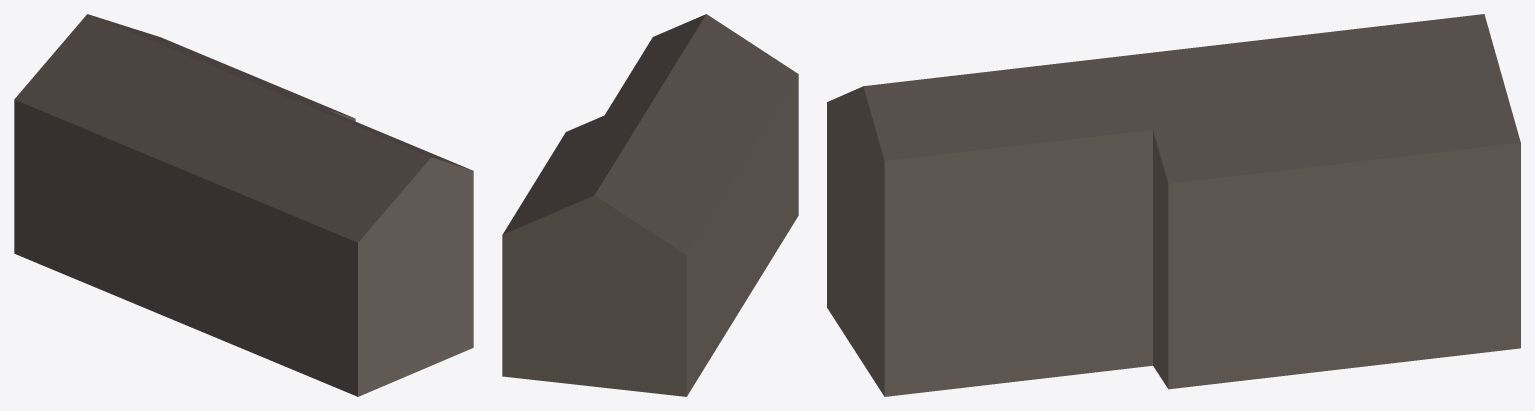
The picture shows the model from 3 angles, left to right: view 1: azimuth 30°, elevation 25°; view 2: azimuth 150°, elevation 25°; view 3: azimuth 270°, elevation 25°; orthographic projection. The views are drawn at different scales.
Visible parts, largest first — view 1: HP-w299011344; view 2: HP-w299011344; view 3: HP-w299011344.
Part boxes in pixels (x1,y1,x2,y2): HP-w299011344: (14,14,473,396); HP-w299011344: (502,14,798,396); HP-w299011344: (827,14,1520,396).
Bounding box in the file's own units: 15.17 × 12.17 × 27.54.
